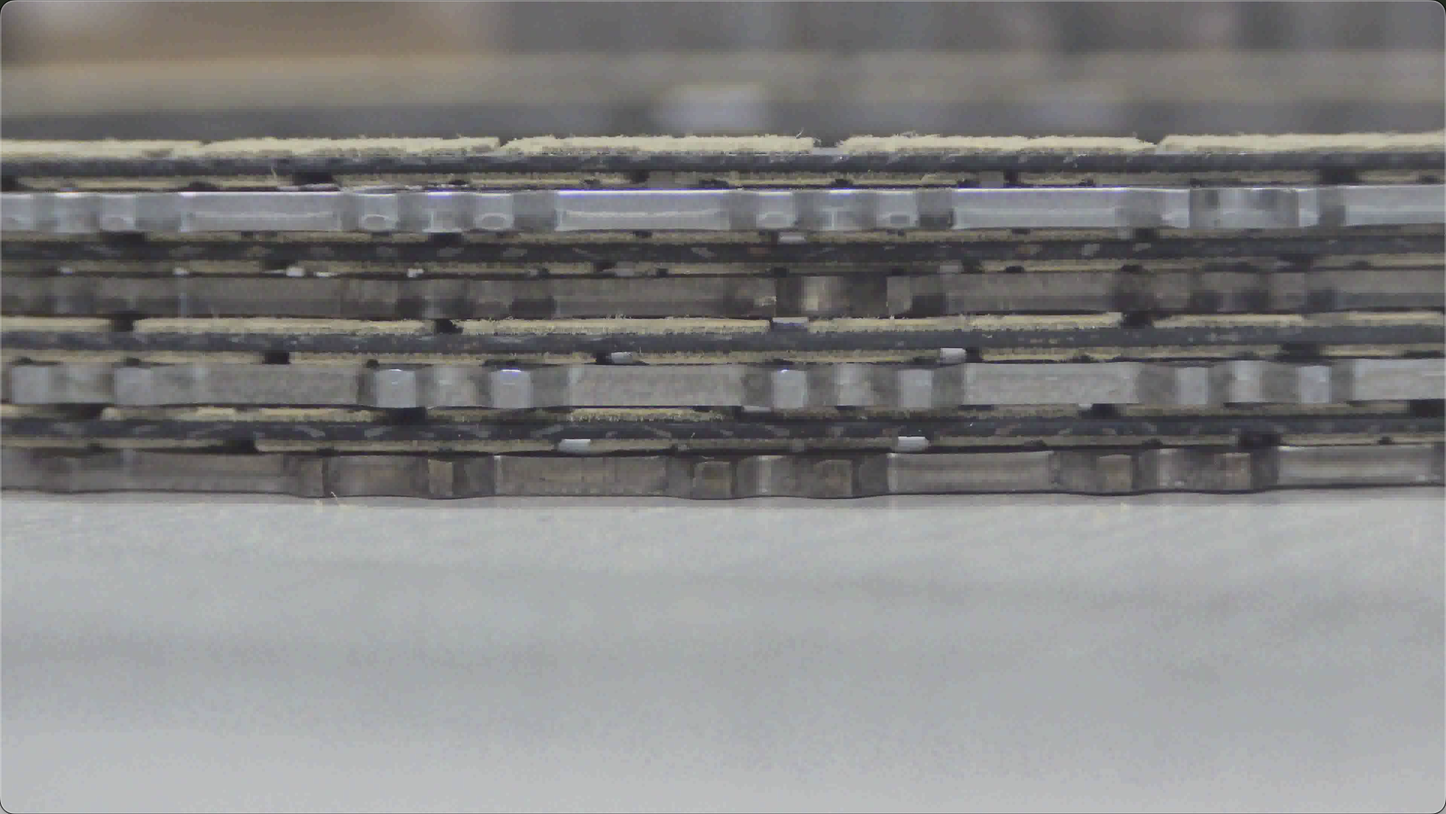Black metal plate: (0, 260, 1445, 319), (0, 442, 1445, 498)
shiney metal plate: (0, 358, 1445, 411), (0, 185, 1445, 236)
spacer: (0, 133, 1445, 187), (0, 226, 1442, 272), (0, 319, 1445, 357), (0, 412, 1445, 449)
